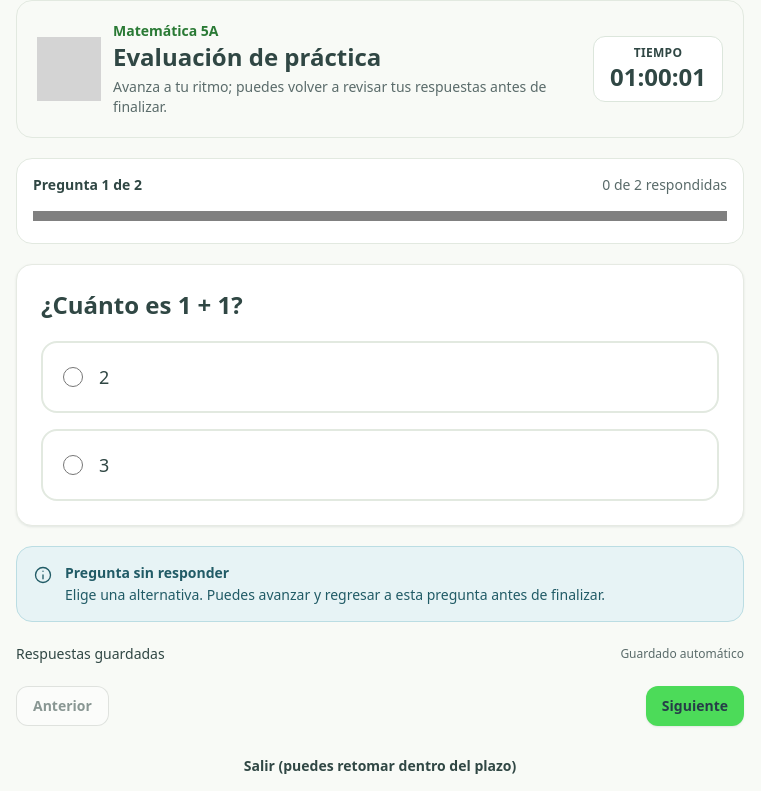
Scenario: StudentAttempt › advierte las preguntas pendientes sin solicitar confirmación de entrega
Click the button "Siguiente": (695,706) x1=646 y1=686 x2=744 y2=726
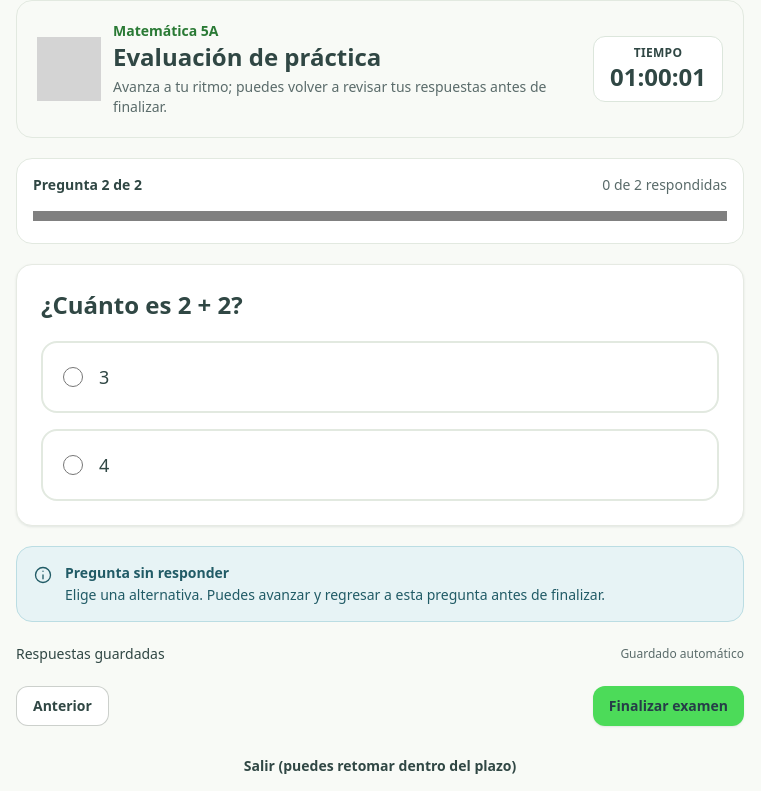
Click the button "Finalizar examen": (668,706) x1=593 y1=686 x2=744 y2=726
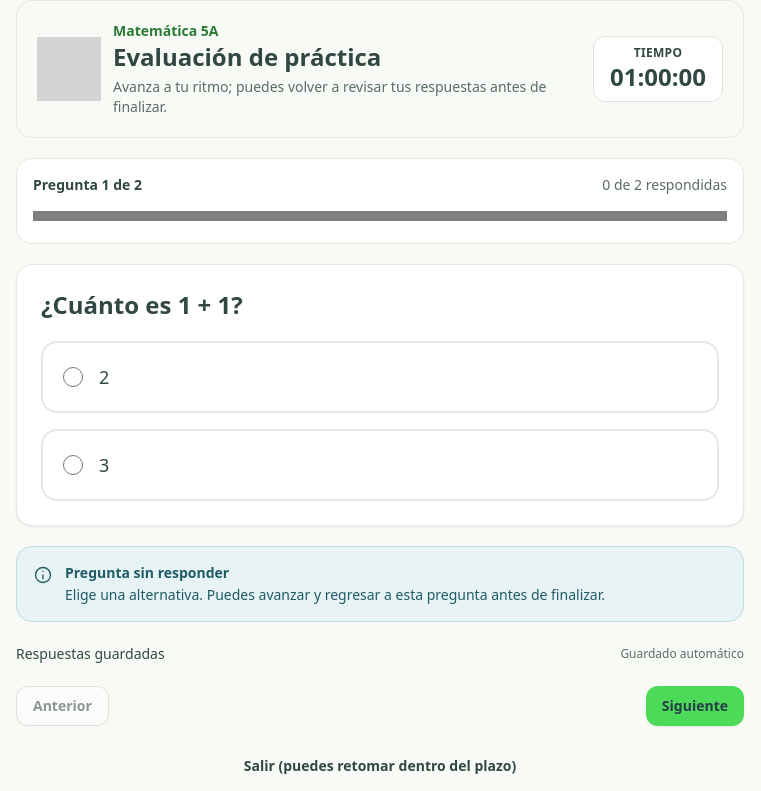
Result: the text "¿Cuánto es 1 + 1?" is shown at x1=41 y1=289 x2=243 y2=321
